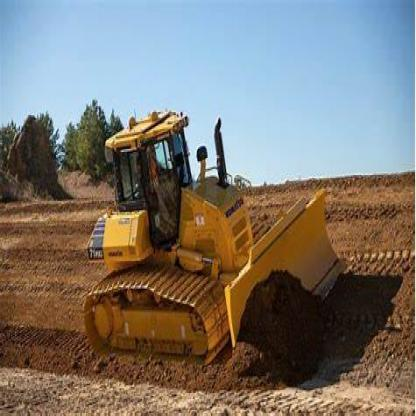bull_dozer/loader/grader: (69, 85, 369, 399)
